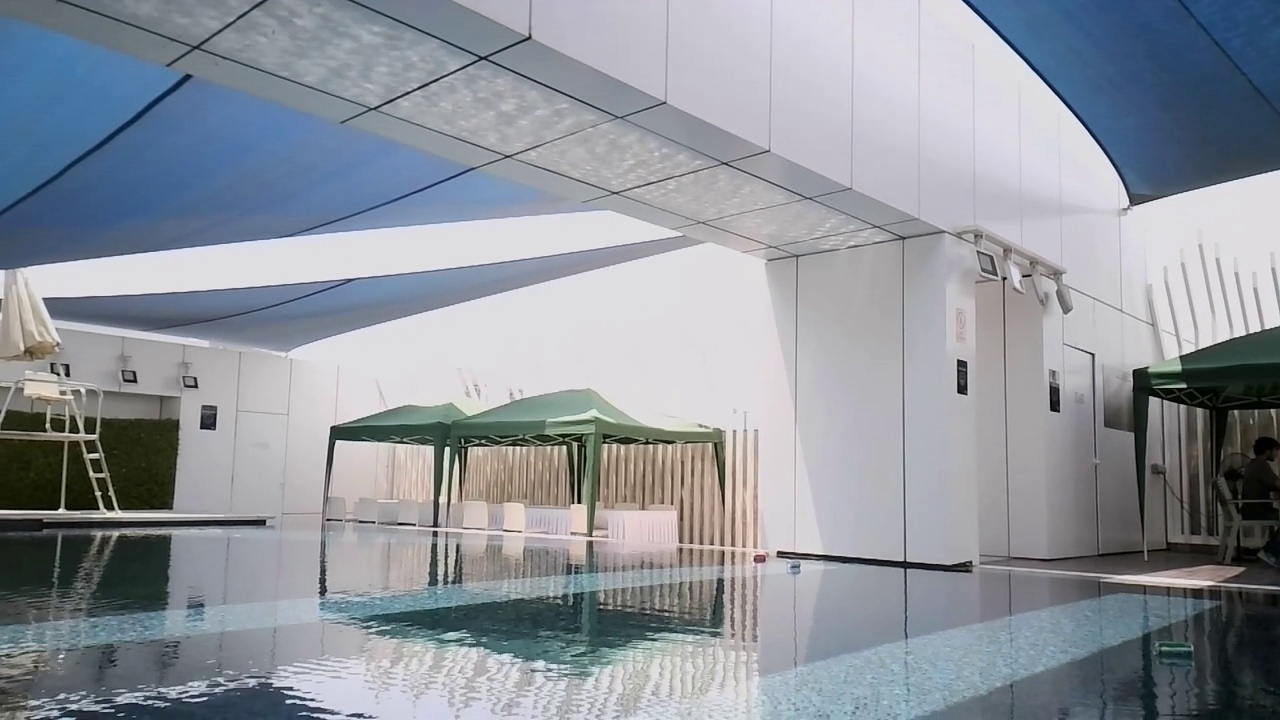debris: (1148, 635, 1197, 671), (782, 557, 804, 573), (747, 551, 769, 567)
